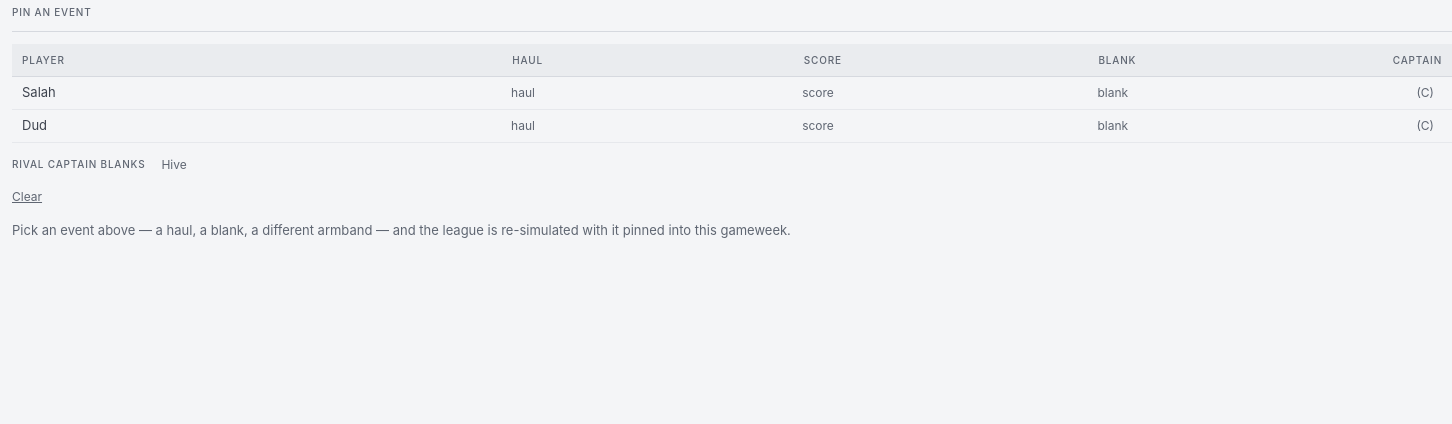
Test: WhatIfSim › unpins an event clicked a second time
The image size is (1452, 424).
What coordinates should you click on to do the following:
click the button with test id "pin-100-blank"
I would click on:
 (1113, 92)
Its box is [1090,82,1136,102].
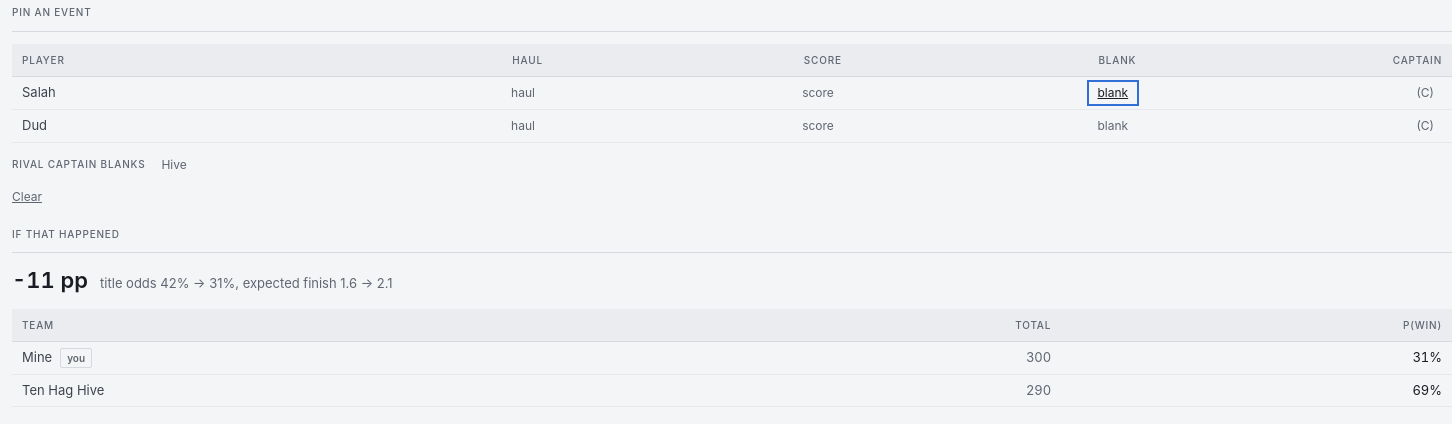
Expected: the text "-11 pp" is shown, [12,265,88,297]
What coordinates should you click on to do the following:
click the button with test id "pin-100-blank"
I would click on:
 (1113, 92)
Its box is [1090,82,1136,102].
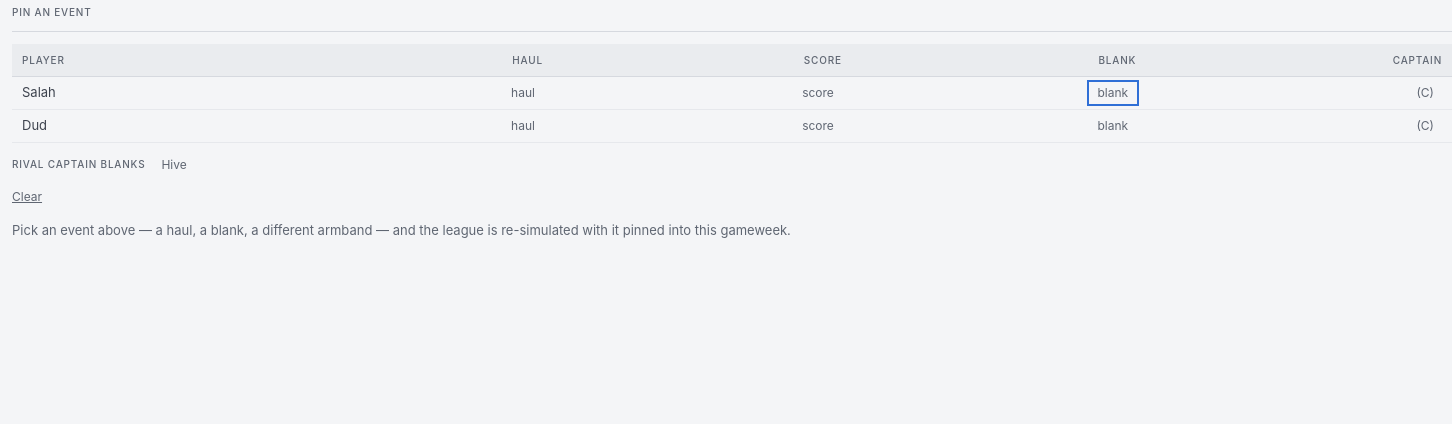
Expected: the text "Pick an event" is shown, [12,222,791,238]
